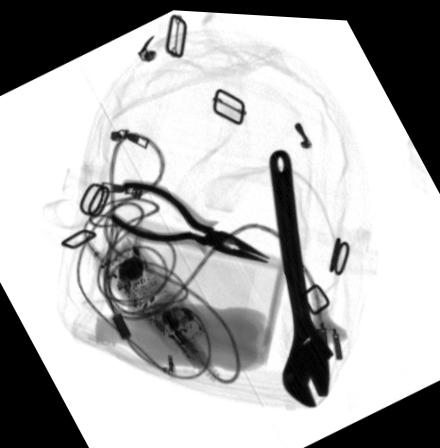Pliers: (108, 175, 271, 260)
Wrench: (268, 142, 338, 404)
